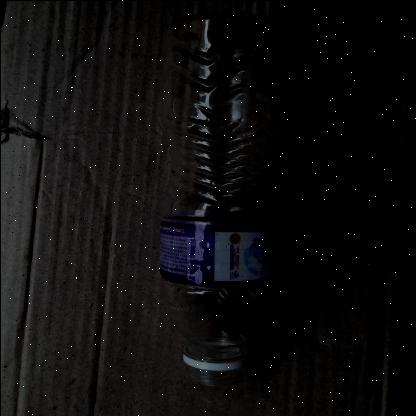Plastic Bottle: (156, 10, 286, 386)
